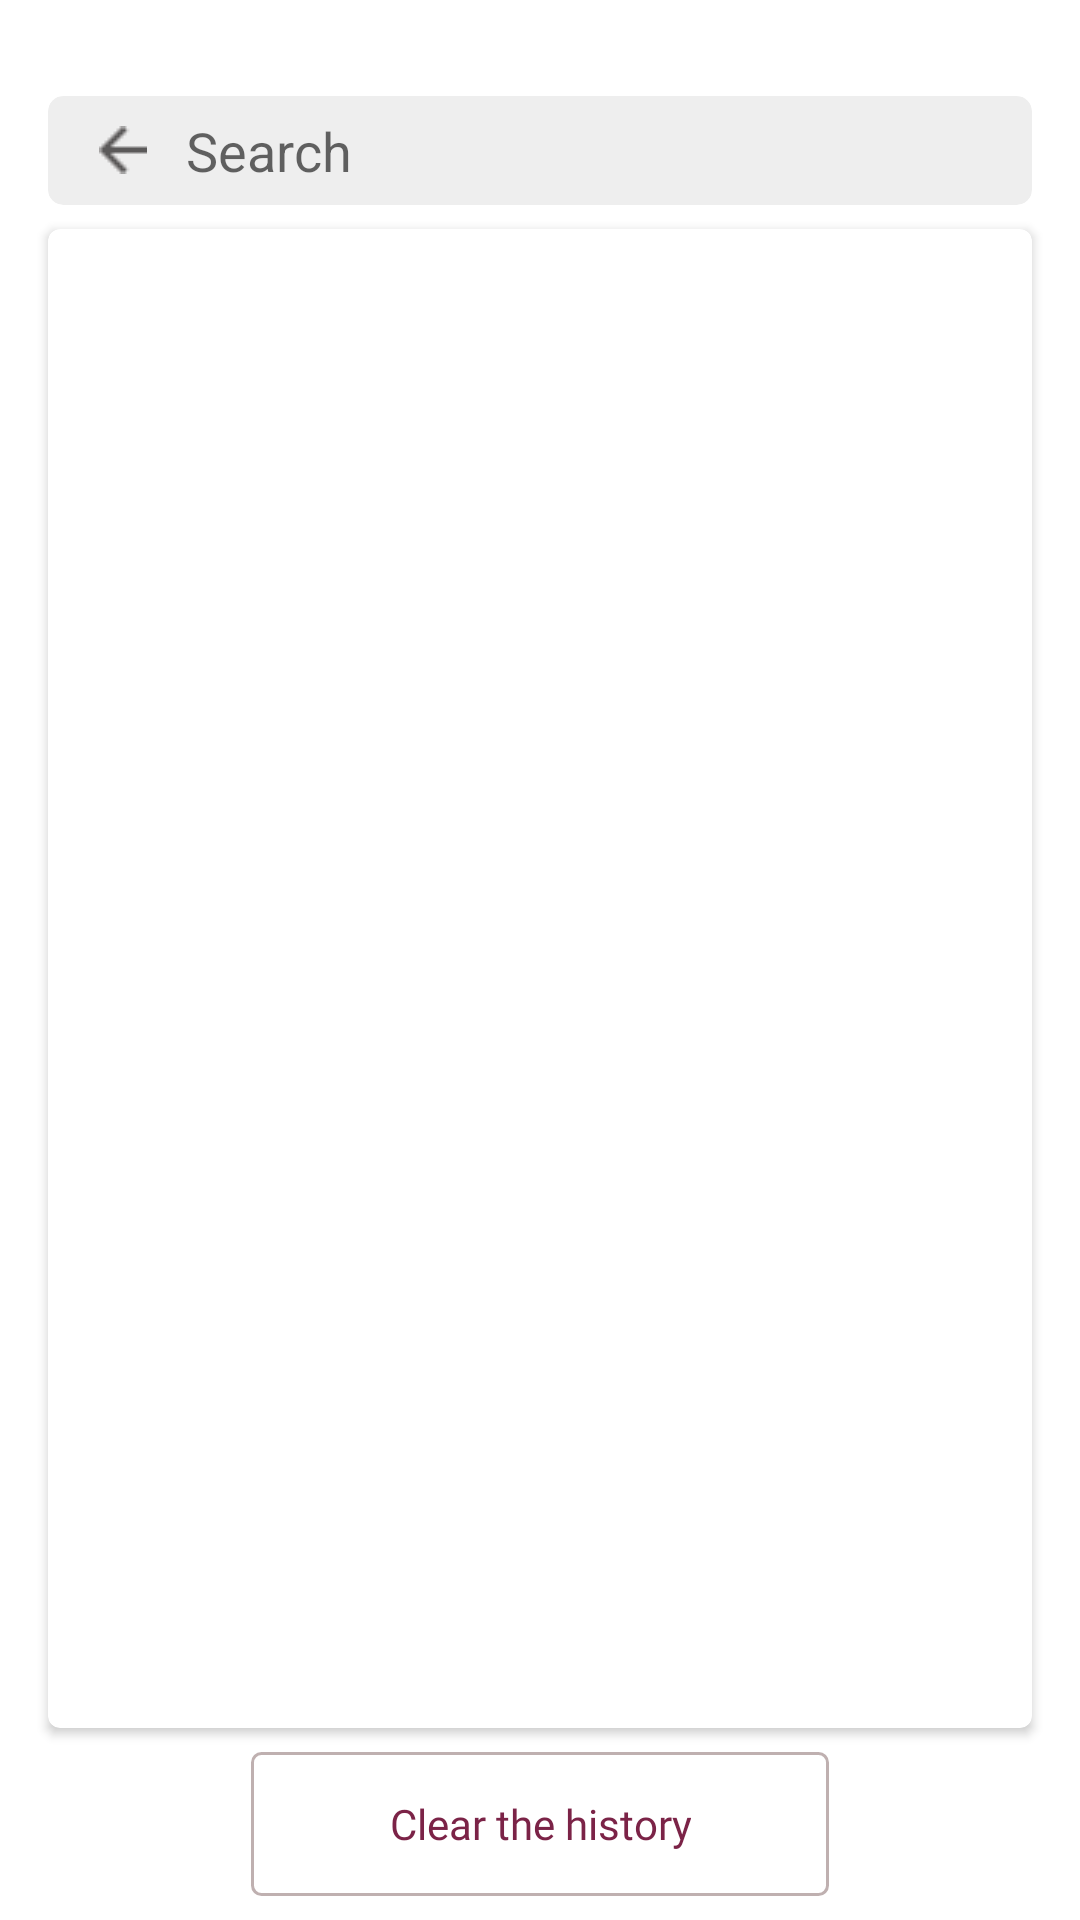

Icons on this 1080w x 1920h Android screen, each with its box as (x1, y1, x2, y2):
back: (99, 126, 147, 174)
